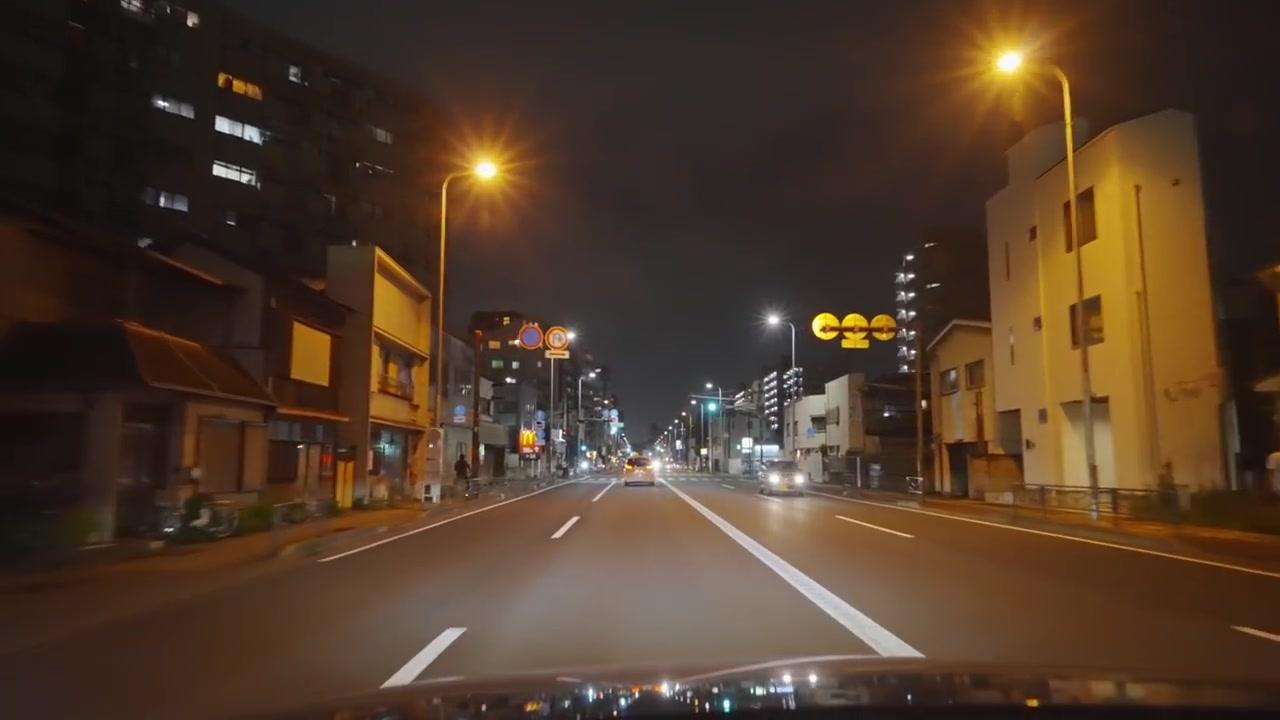car: (758, 459, 810, 496), (622, 451, 656, 486)
person: (455, 452, 473, 498)
traffic light: (1069, 294, 1106, 350), (705, 398, 719, 416)
